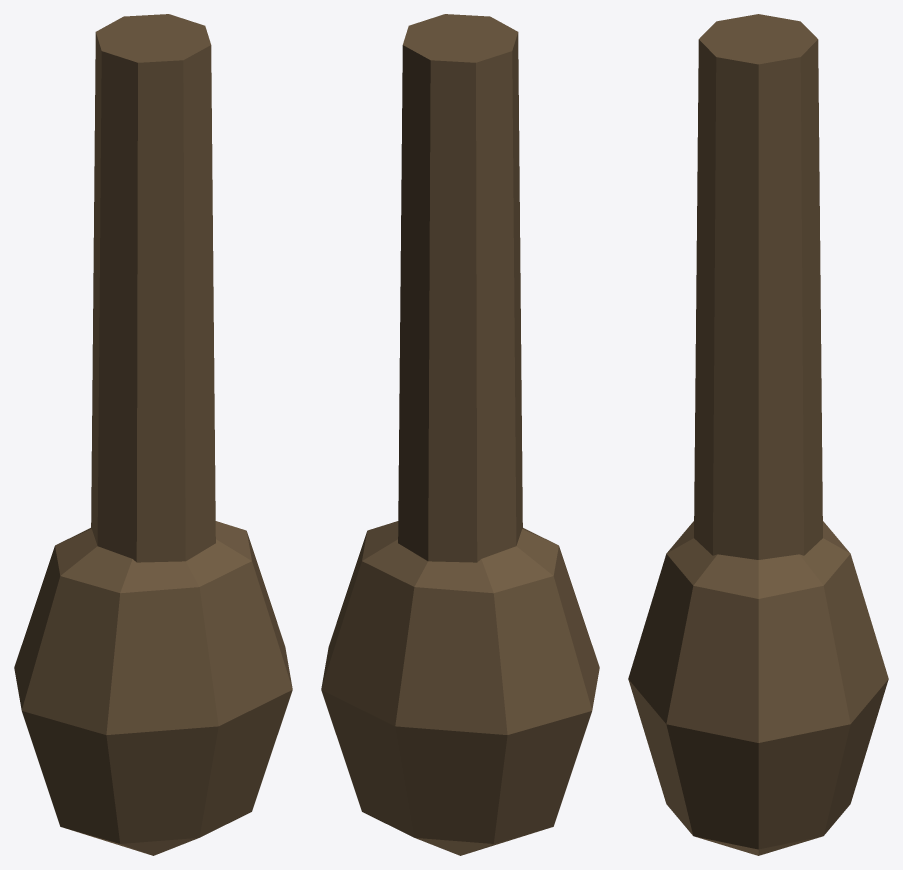
Rendered from iron_heart.obj.
3 renders of one model, left to right at view 1: azimuth 30°, elevation 25°; view 2: azimuth 150°, elevation 25°; view 3: azimuth 270°, elevation 25°, orthographic.
Visible parts, largest first — view 1: iron_heart, iron_stem; view 2: iron_heart, iron_stem; view 3: iron_stem, iron_heart.
Boxes of the visible parts, x1,y1,x2,y2 form: iron_heart: (14,521,292,855); iron_stem: (91,14,215,562); iron_heart: (321,521,599,855); iron_stem: (398,14,522,562); iron_stem: (694,14,822,559); iron_heart: (628,521,888,855).
Size of the model in its own units: 0.28 by 0.83 by 0.24.
